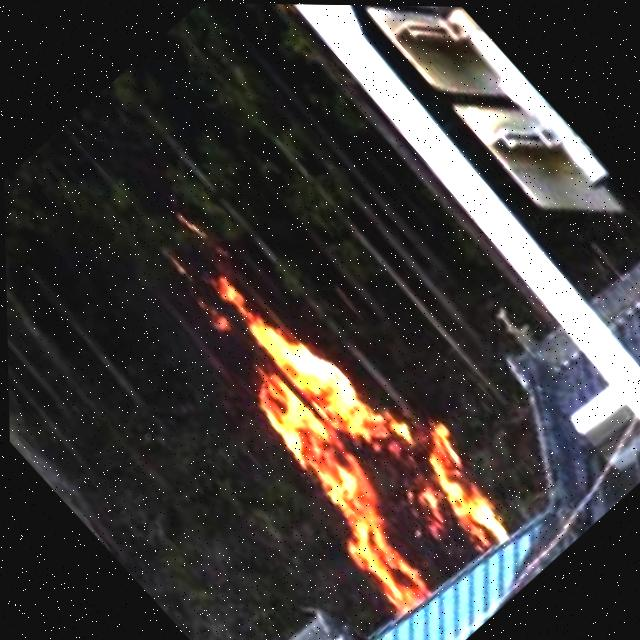Fire: (142, 230, 520, 622)
